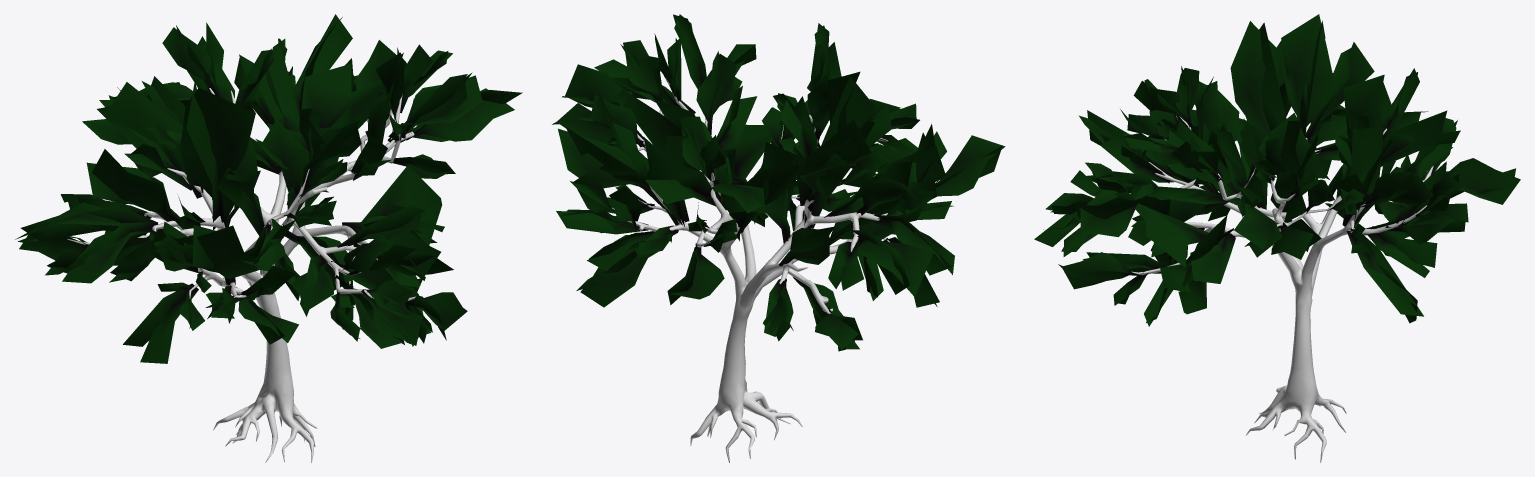
The model's file is DeadTreeCATAM_B.fbx.
3 views of the same model, side by side, from view 1: azimuth 30°, elevation 25°; view 2: azimuth 150°, elevation 25°; view 3: azimuth 270°, elevation 25° (orthographic). The views are drawn at different scales.
Visible parts, largest first — view 1: DeadTreeCATAM_B_Leaves_LOD0, DeadTreeCATAM_B_Trunk_LOD0; view 2: DeadTreeCATAM_B_Leaves_LOD0, DeadTreeCATAM_B_Trunk_LOD0; view 3: DeadTreeCATAM_B_Leaves_LOD0, DeadTreeCATAM_B_Trunk_LOD0.
Part boxes in pixels (x1,y1,x2,y2): DeadTreeCATAM_B_Leaves_LOD0: (15, 14, 522, 363); DeadTreeCATAM_B_Trunk_LOD0: (67, 88, 415, 462); DeadTreeCATAM_B_Leaves_LOD0: (552, 14, 1005, 351); DeadTreeCATAM_B_Trunk_LOD0: (611, 78, 889, 462); DeadTreeCATAM_B_Leaves_LOD0: (1034, 14, 1520, 326); DeadTreeCATAM_B_Trunk_LOD0: (1131, 116, 1433, 462).
Size of what is drawn, in the model's own units: 13.54 by 12.12 by 14.16.
